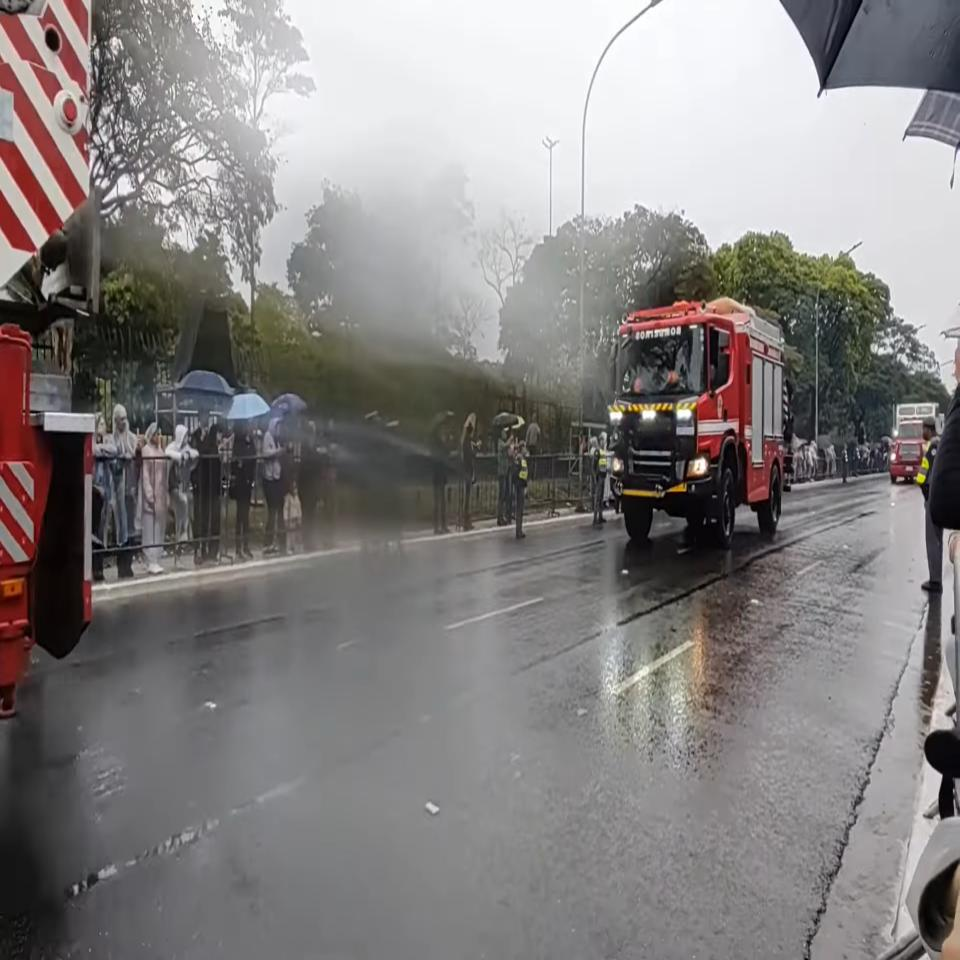viatura: (608, 295, 796, 547)
